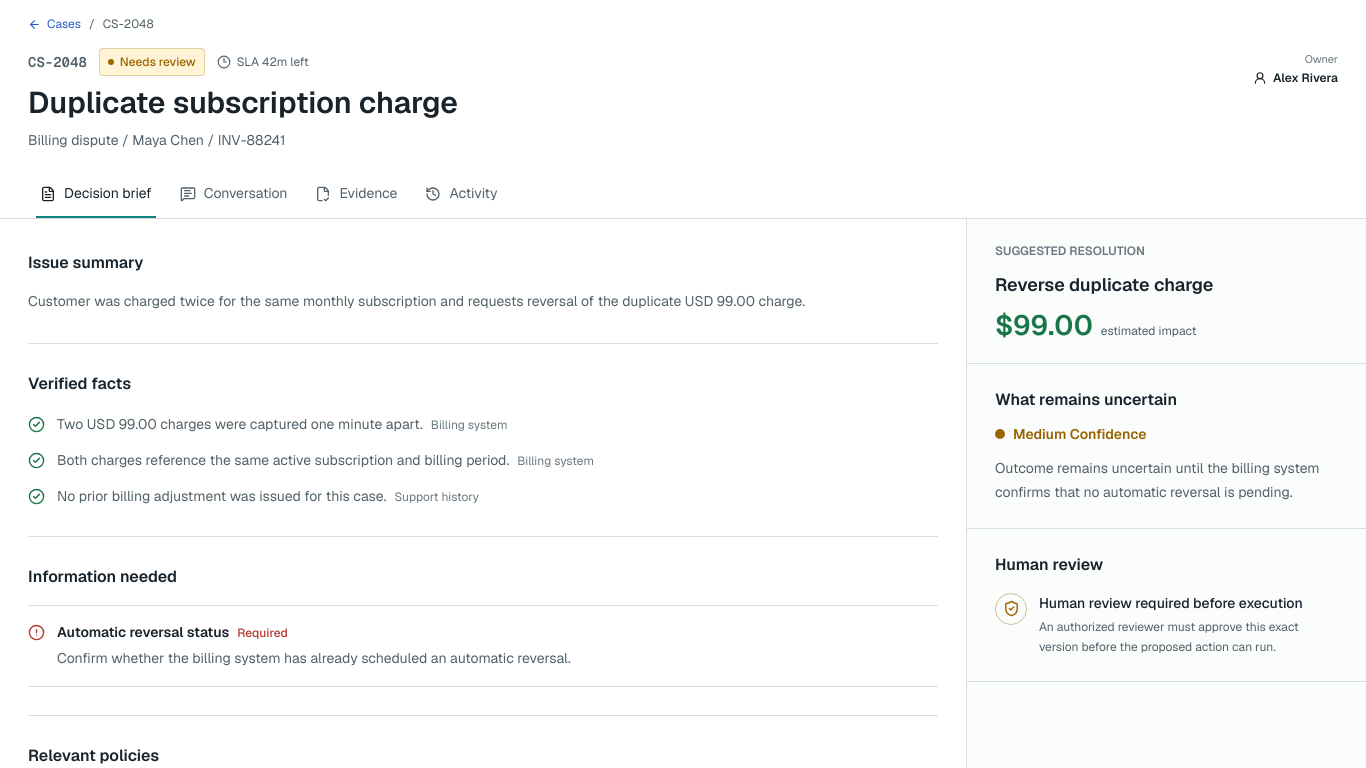
it: CaseWorkspace › provides functional conversation, evidence, and activity tabs
What coordinates should you click on to do the following:
click the tab "Conversation"
I would click on:
 (234, 194)
Its box is x1=168 y1=170 x2=300 y2=218.
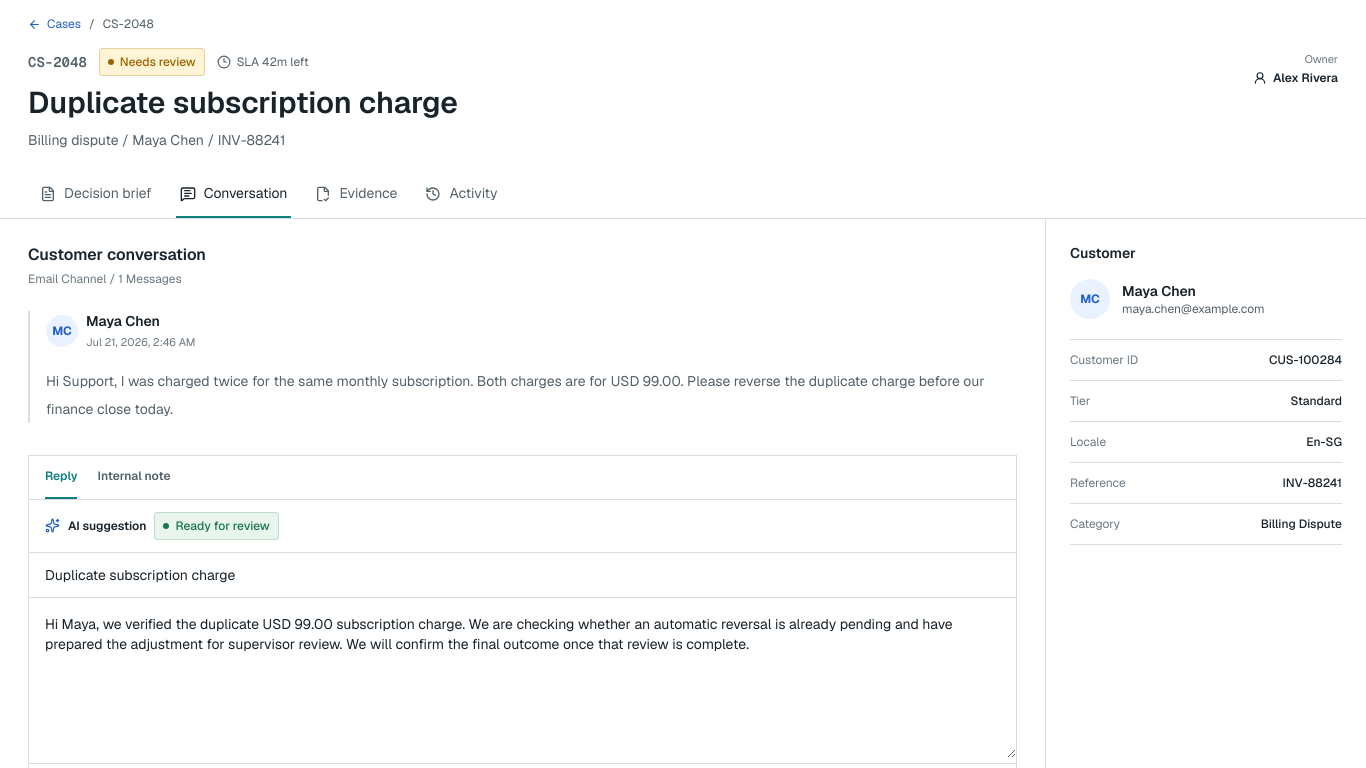
Now the heading "Customer conversation" is shown, box x1=28 y1=244 x2=206 y2=264
Now the text box named "Response draft" is shown, box x1=29 y1=598 x2=1016 y2=758
Now the text "I was charged twice for the same monthly subscription" is shown, box x1=46 y1=372 x2=985 y2=418
What coordinates should you click on to do the following:
click the tab "Evidence"
I would click on:
 (356, 194)
Its box is x1=303 y1=170 x2=409 y2=218.
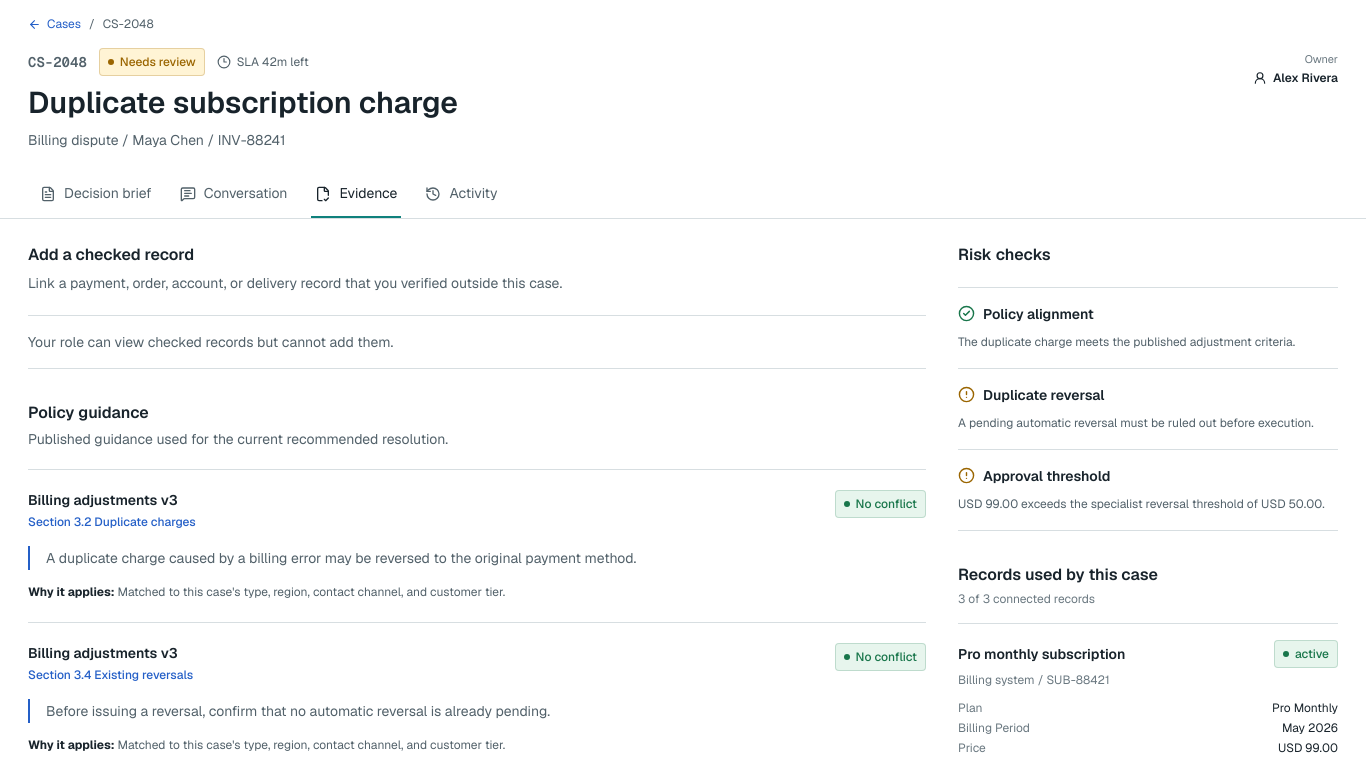
Now the heading "Policy guidance" is shown, box x1=28 y1=402 x2=149 y2=422
Now the heading "Risk checks" is shown, box x1=958 y1=244 x2=1050 y2=264
What coordinates should you click on to do the following:
click the tab "Activity"
I would click on:
 (462, 194)
Its box is x1=414 y1=170 x2=510 y2=218.
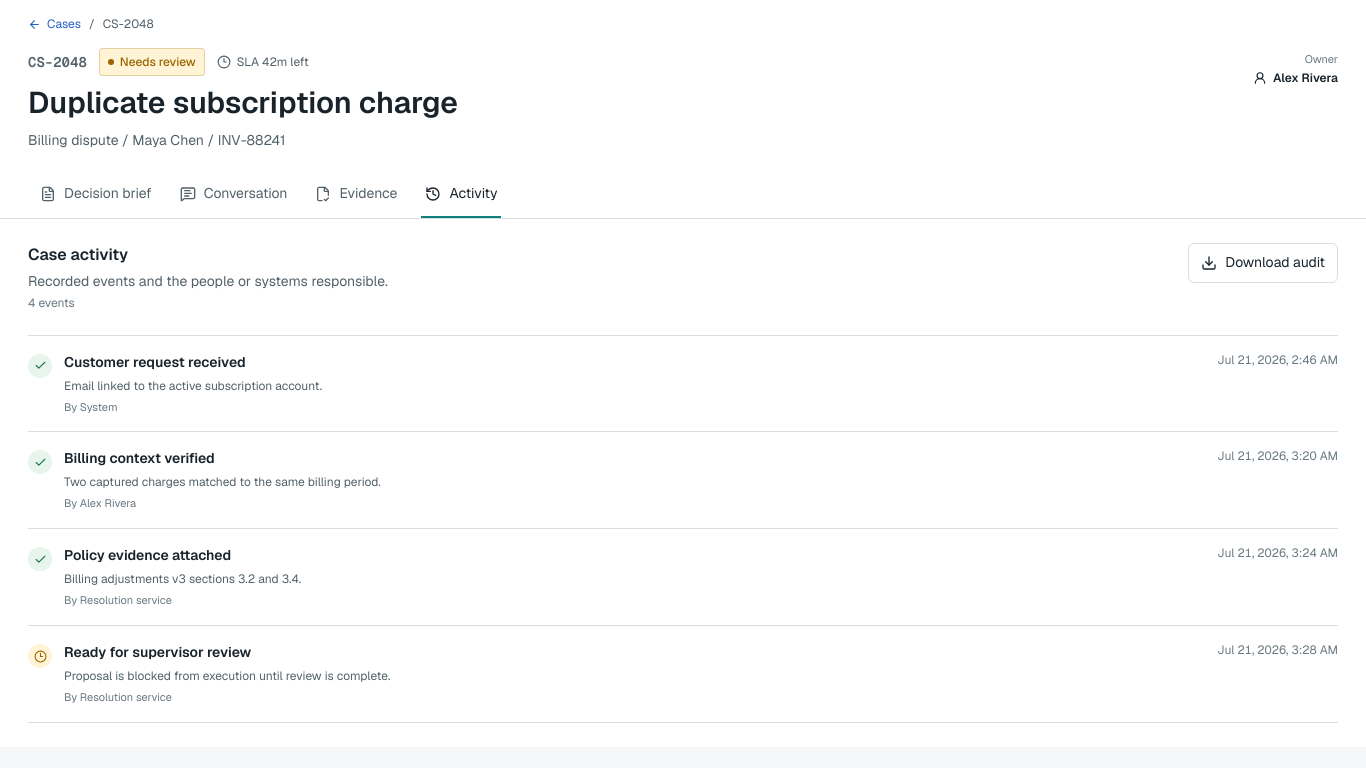
Now the heading "Case activity" is shown, box x1=28 y1=244 x2=128 y2=264
